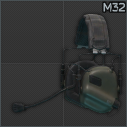Opsmen Earmor M32 headset: (0, 0, 127, 127)
